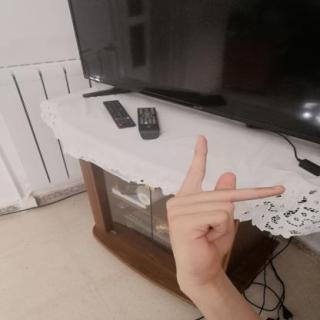DHAA: (156, 127, 296, 288)
